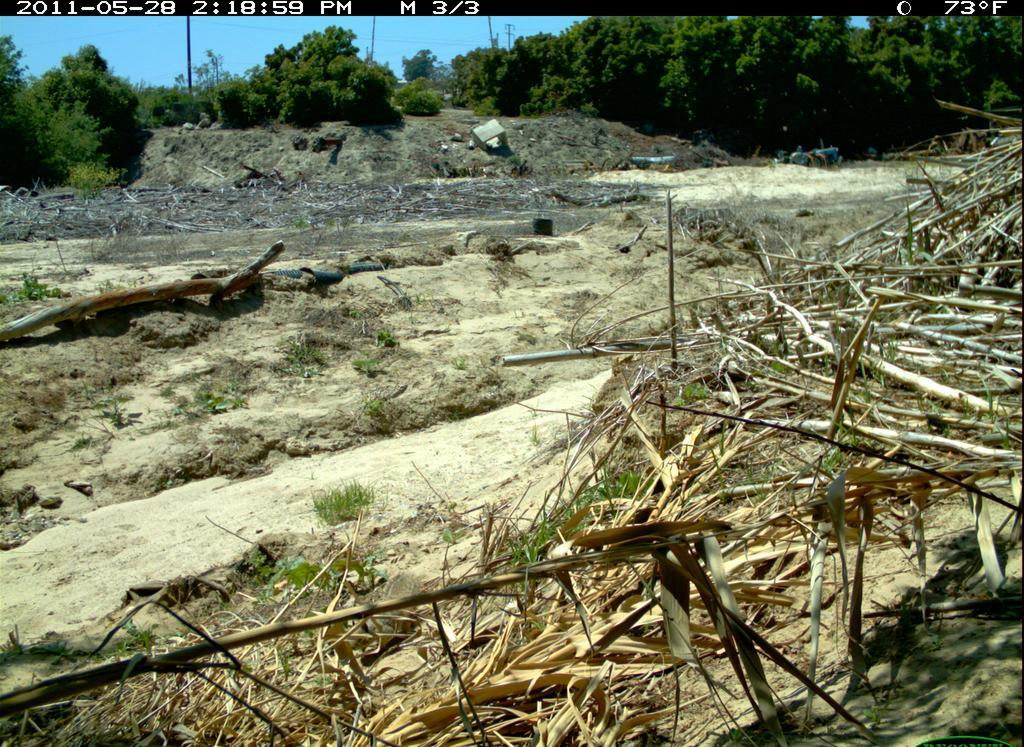squirrel: (348, 567, 436, 661)
